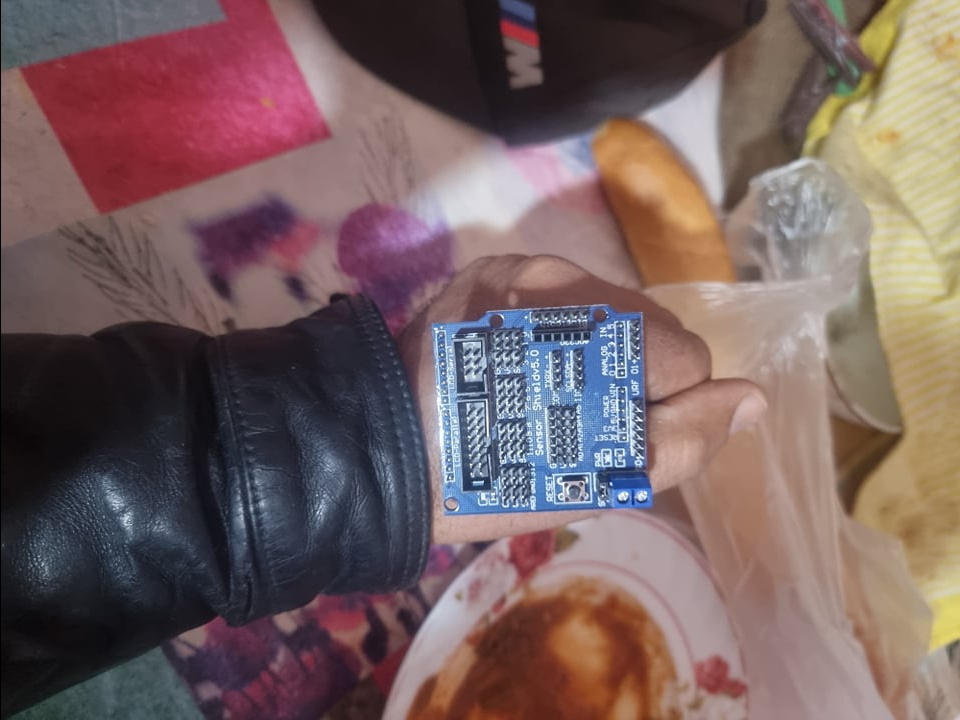5V EXPANSION: (440, 302, 654, 517)
